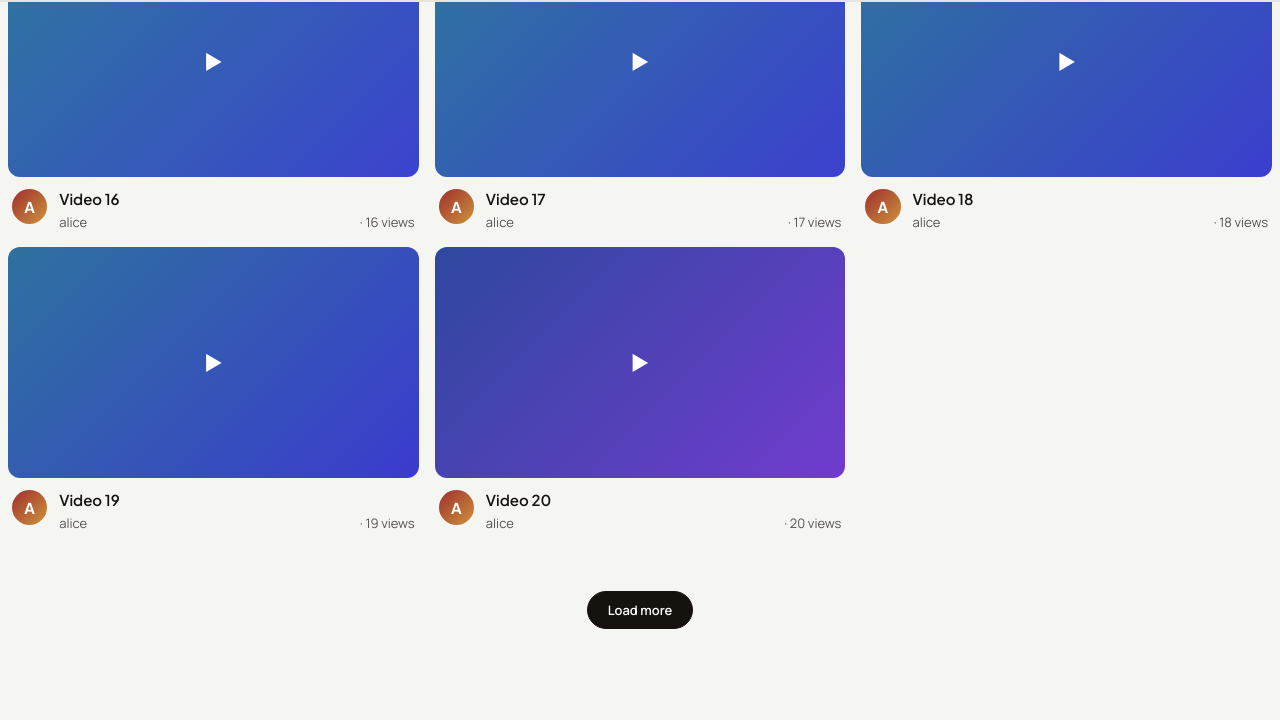
Home pagination › appends page 2 via the Load more fallback button
(page scrolled)
Expected: the text "Video 20" is shown, x1=486 y1=490 x2=551 y2=509
Click the button "Load more" at (640, 610), box x1=587 y1=591 x2=693 y2=629
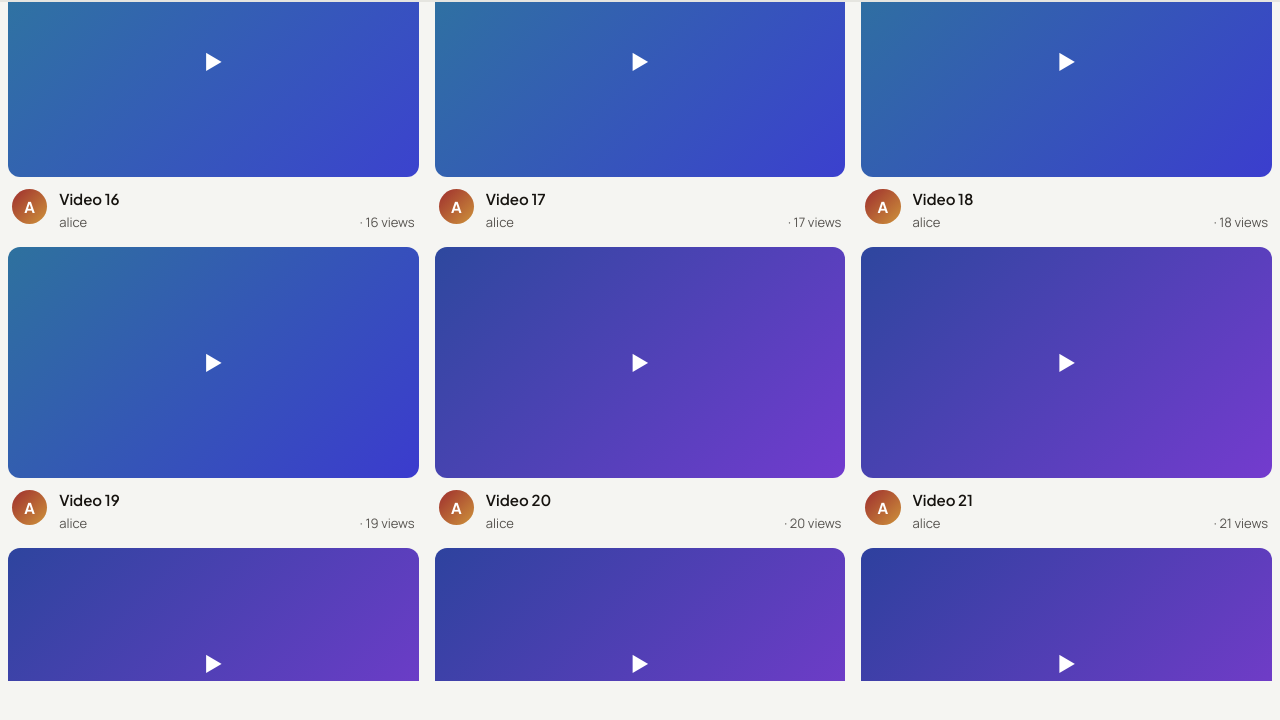
Expected: the text "Video 21" is shown, x1=912 y1=490 x2=973 y2=509
